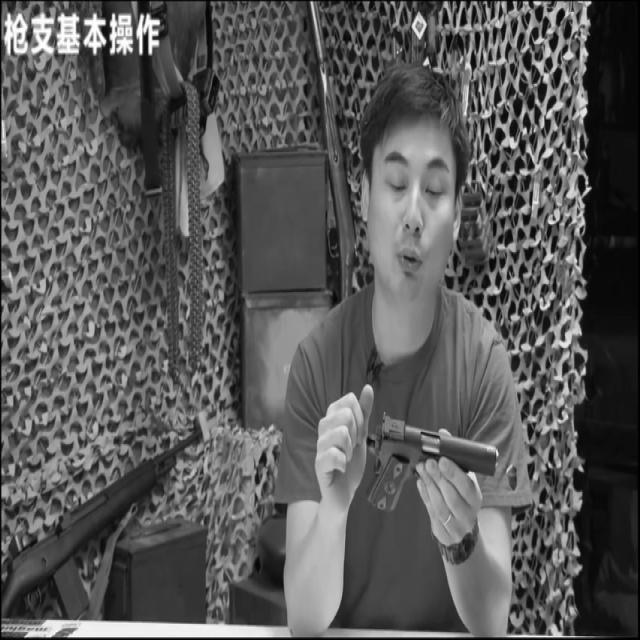Hand-Gun: (328, 291, 550, 615)
